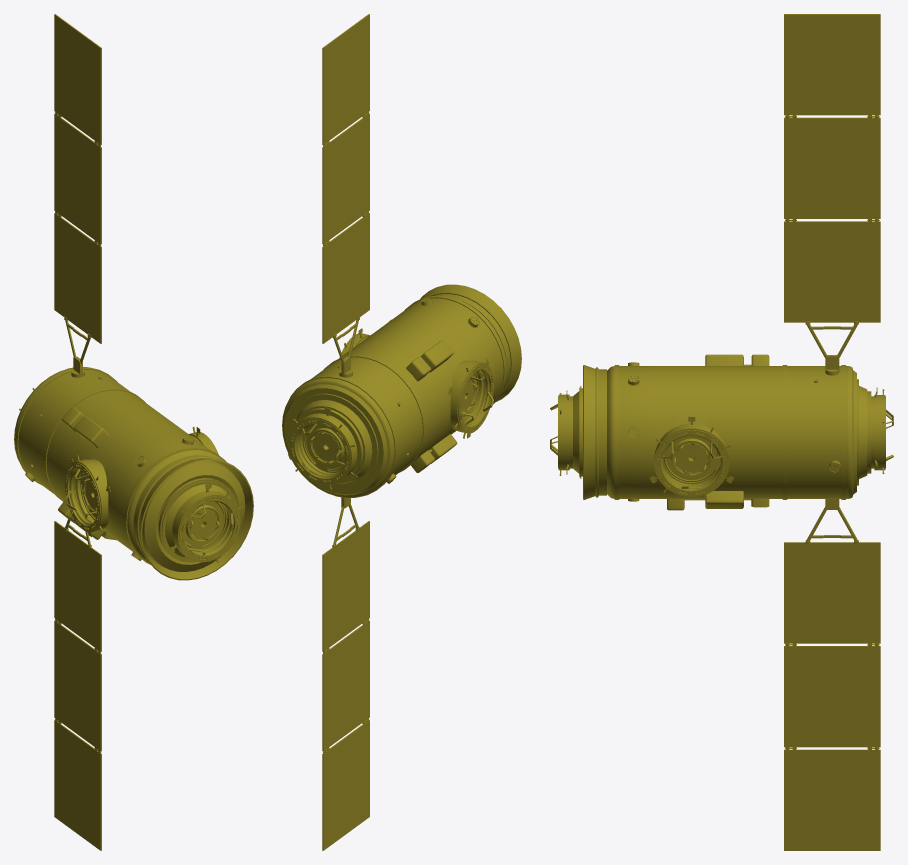
The model's file is International_Habitation_Module.FBX.
The picture shows the model from 3 angles, left to right: view 1: azimuth 30°, elevation 25°; view 2: azimuth 150°, elevation 25°; view 3: azimuth 270°, elevation 25°; orthographic projection. The views are drawn at different scales.
Visible parts, largest first — view 1: IHAB_Main, IHAB_SolarMainHinge01_Panel03, IHAB_SolarMainHinge01_Panel02, IHAB_SolarMainHinge02_Panel02, IHAB_SolarMainHinge02_Panel03, IHAB_SolarMainHinge02_Panel01, IHAB_SolarMainHinge01_Panel01, IHAB_CylinderFront01, IHAB_Connector_Main02, IHAB_Connector_Main01, IHAB_Connector_Outer02, IHAB_ConnectorOuterRing04 (+4 smaller); view 2: IHAB_Main, IHAB_SolarMainHinge01_Panel03, IHAB_SolarMainHinge02_Panel02, IHAB_SolarMainHinge01_Panel02, IHAB_SolarMainHinge02_Panel03, IHAB_SolarMainHinge02_Panel01, IHAB_SolarMainHinge01_Panel01, IHAB_CylinderFront01, IHAB_Connector_Main04, IHAB_Connector_Main01, IHAB_Connector_Outer04, IHAB_ConnectorOuterRing03 (+4 smaller); view 3: IHAB_Main, IHAB_SolarMainHinge01_Panel03, IHAB_SolarMainHinge02_Panel02, IHAB_SolarMainHinge01_Panel02, IHAB_SolarMainHinge02_Panel03, IHAB_SolarMainHinge02_Panel01, IHAB_SolarMainHinge01_Panel01, IHAB_CylinderFront01, IHAB_Connector_Main03, IHAB_Connector_Outer03, IHAB_ConnectorOuterRing04, IHAB_ConnectorOuterRing03 (+3 smaller).
Boxes of the visible parts, x1=… form: IHAB_Main: x1=14, y1=367, x2=245, y2=571; IHAB_SolarMainHinge01_Panel03: x1=54, y1=14, x2=101, y2=144; IHAB_SolarMainHinge01_Panel02: x1=54, y1=113, x2=101, y2=244; IHAB_SolarMainHinge02_Panel02: x1=54, y1=620, x2=101, y2=751; IHAB_SolarMainHinge02_Panel03: x1=54, y1=720, x2=101, y2=850; IHAB_SolarMainHinge02_Panel01: x1=54, y1=521, x2=101, y2=651; IHAB_SolarMainHinge01_Panel01: x1=54, y1=213, x2=101, y2=343; IHAB_CylinderFront01: x1=133, y1=455, x2=253, y2=580; IHAB_Connector_Main02: x1=184, y1=501, x2=234, y2=555; IHAB_Connector_Main01: x1=65, y1=468, x2=97, y2=525; IHAB_Connector_Outer02: x1=172, y1=491, x2=239, y2=561; IHAB_ConnectorOuterRing04: x1=169, y1=483, x2=242, y2=562; IHAB_Main: x1=282, y1=295, x2=506, y2=497; IHAB_SolarMainHinge01_Panel03: x1=322, y1=14, x2=369, y2=144; IHAB_SolarMainHinge02_Panel02: x1=322, y1=620, x2=369, y2=751; IHAB_SolarMainHinge01_Panel02: x1=322, y1=113, x2=369, y2=244; IHAB_SolarMainHinge02_Panel03: x1=322, y1=720, x2=369, y2=850; IHAB_SolarMainHinge02_Panel01: x1=322, y1=521, x2=369, y2=651; IHAB_SolarMainHinge01_Panel01: x1=322, y1=213, x2=369, y2=343; IHAB_CylinderFront01: x1=420, y1=284, x2=521, y2=402; IHAB_Connector_Main04: x1=295, y1=423, x2=345, y2=477; IHAB_Connector_Main01: x1=461, y1=369, x2=493, y2=426; IHAB_Connector_Outer04: x1=290, y1=415, x2=357, y2=483; IHAB_ConnectorOuterRing03: x1=288, y1=407, x2=357, y2=489; IHAB_Main: x1=569, y1=365, x2=871, y2=499; IHAB_SolarMainHinge01_Panel03: x1=784, y1=14, x2=880, y2=115; IHAB_SolarMainHinge02_Panel02: x1=784, y1=646, x2=880, y2=747; IHAB_SolarMainHinge01_Panel02: x1=784, y1=117, x2=880, y2=218; IHAB_SolarMainHinge02_Panel03: x1=784, y1=749, x2=880, y2=850; IHAB_SolarMainHinge02_Panel01: x1=784, y1=542, x2=880, y2=643; IHAB_SolarMainHinge01_Panel01: x1=784, y1=221, x2=880, y2=322; IHAB_CylinderFront01: x1=583, y1=365, x2=606, y2=499; IHAB_Connector_Main03: x1=661, y1=435, x2=722, y2=490; IHAB_Connector_Outer03: x1=655, y1=423, x2=727, y2=496; IHAB_ConnectorOuterRing04: x1=558, y1=390, x2=569, y2=475; IHAB_ConnectorOuterRing03: x1=874, y1=387, x2=885, y2=473.
Bounding box in the file's own units: 341 × 1907 × 711.
